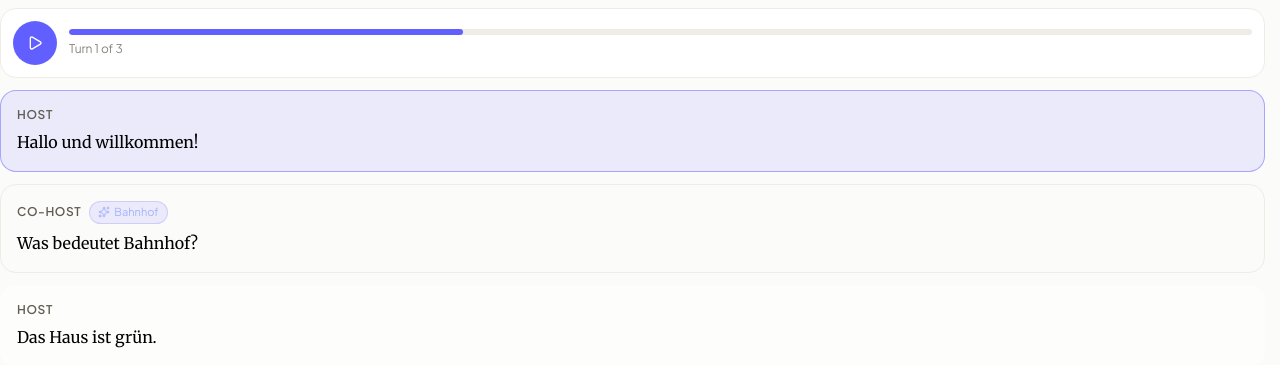
Test: PodcastPlayer › starts on the first turn and plays when asked
Expected: the text "Turn 1 of 3" is shown, [69,41,123,56]
Click the button named "Play episode": click(35, 43) [13,21,57,65]
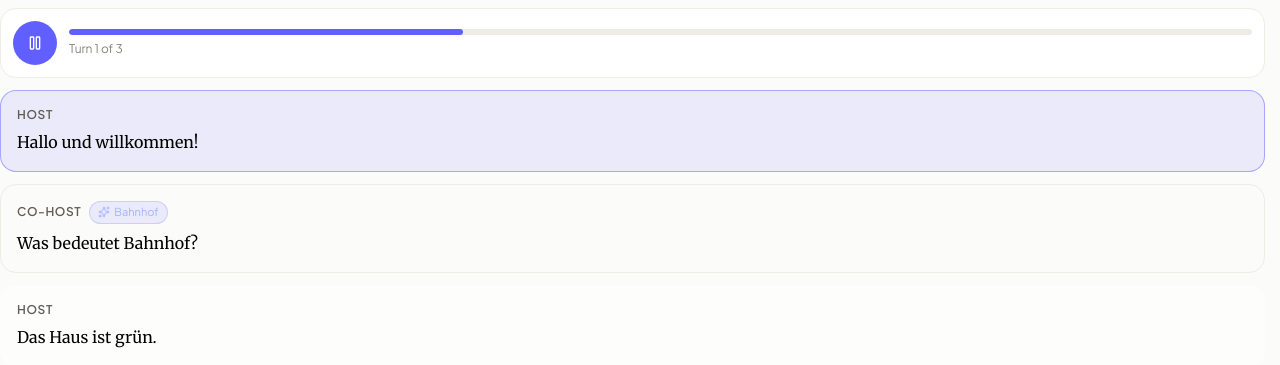
Now the button named "Pause episode" is shown, box [13,21,57,65]
